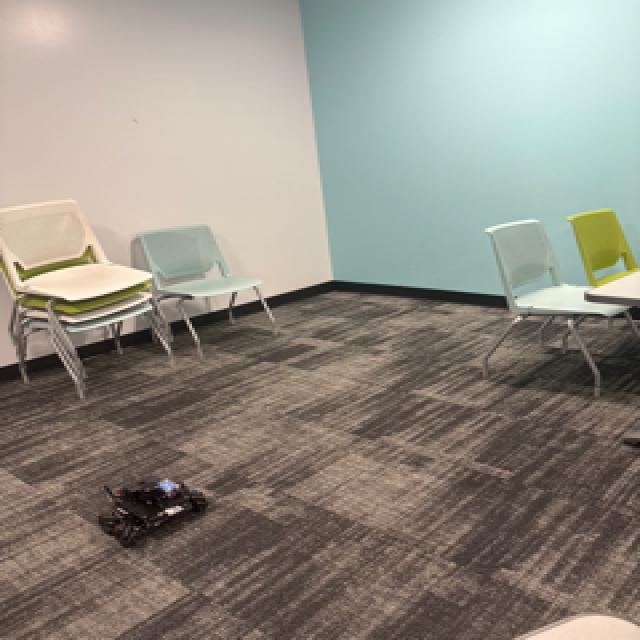ArduinoCar3: (97, 471, 209, 545)
